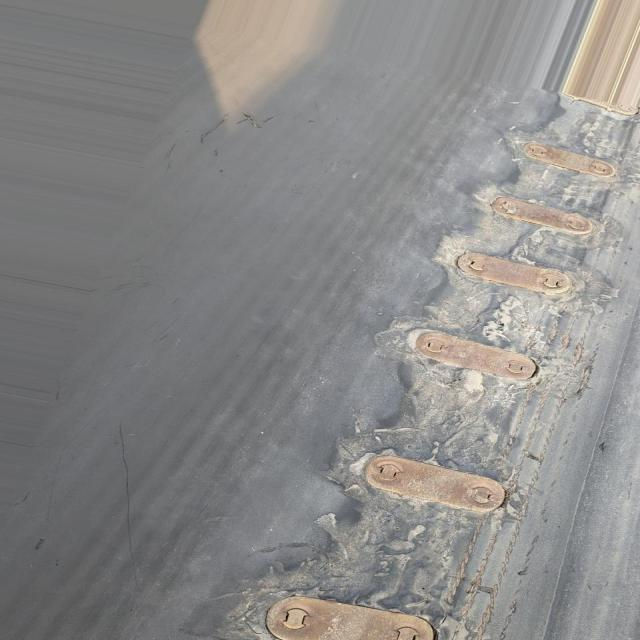patch work: (221, 106, 629, 640)
